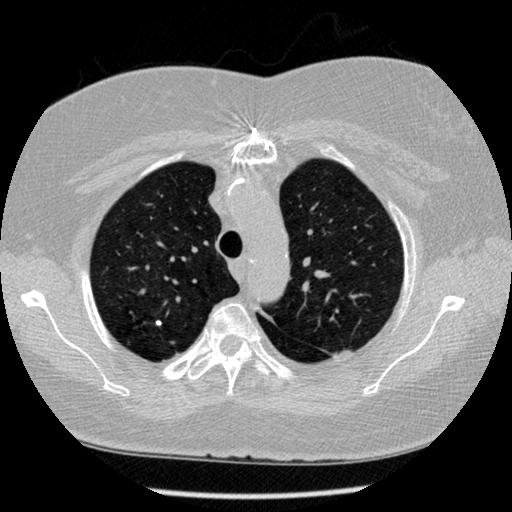nodule: (154, 318, 164, 328)
